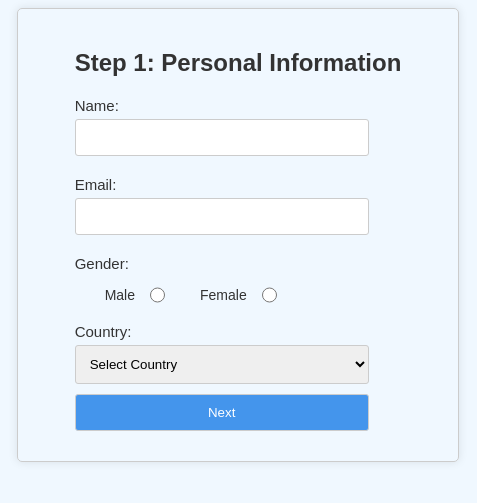
Test: Verify the components and actions › displays error message for invalid email format
Type "John Doe" into the field labelled "Name:" at (222, 137), box [75,119,369,156]
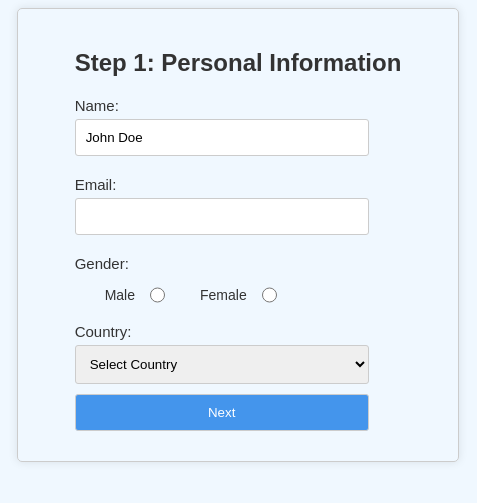
Type "invalidemail" into the field labelled "Email:" at (222, 216), box [75,198,369,235]
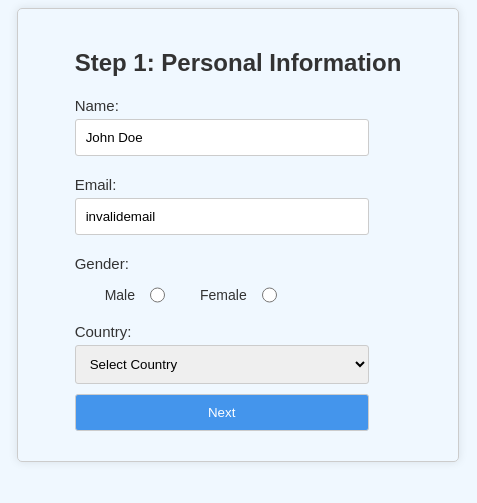
Click the button "Next" at (222, 412), box [75,394,369,431]
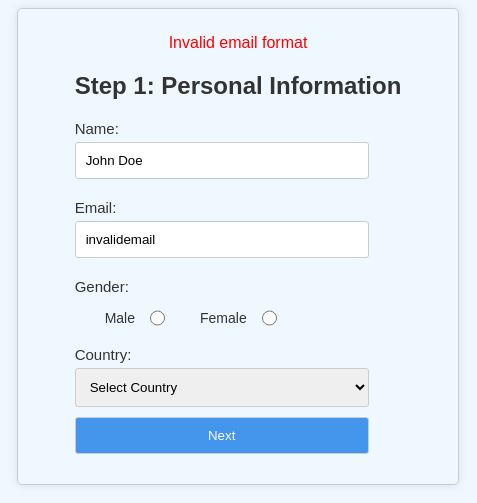
Now the text "Invalid email format" is shown, box [169,34,307,52]
